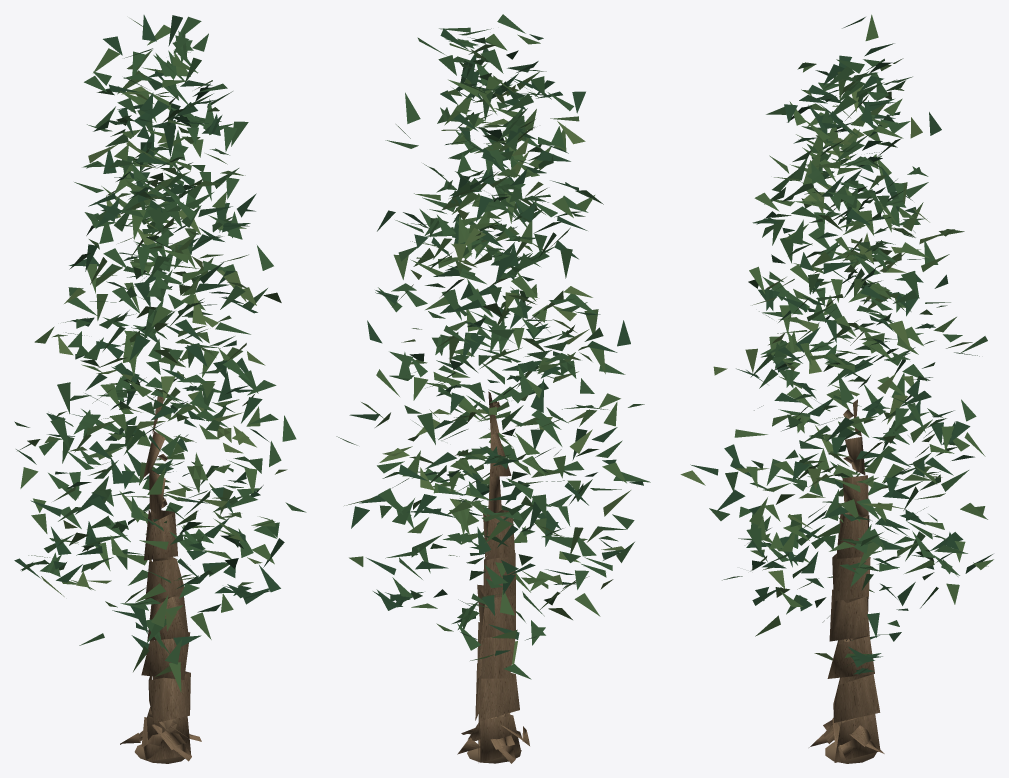
The model's file is cypress-tree.glb.
3 views of the same model, side by side, from view 1: azimuth 30°, elevation 25°; view 2: azimuth 150°, elevation 25°; view 3: azimuth 270°, elevation 25° (orthographic). The views are drawn at different scales.
Visible parts, largest first — view 1: 翠柏 · 立体叶冠, 翠柏 · 树干与枝系; view 2: 翠柏 · 立体叶冠, 翠柏 · 树干与枝系; view 3: 翠柏 · 立体叶冠, 翠柏 · 树干与枝系.
Part boxes in pixels (x1=…): 翠柏 · 立体叶冠: x1=14, y1=15, x2=306, y2=692; 翠柏 · 树干与枝系: x1=120, y1=396, x2=201, y2=763; 翠柏 · 立体叶冠: x1=336, y1=14, x2=650, y2=679; 翠柏 · 树干与枝系: x1=457, y1=391, x2=529, y2=763; 翠柏 · 立体叶冠: x1=680, y1=14, x2=993, y2=674; 翠柏 · 树干与枝系: x1=809, y1=399, x2=884, y2=763.
Size of the model in its own units: 3.69 by 9.29 by 3.64.
5 materials, 1 textured.
